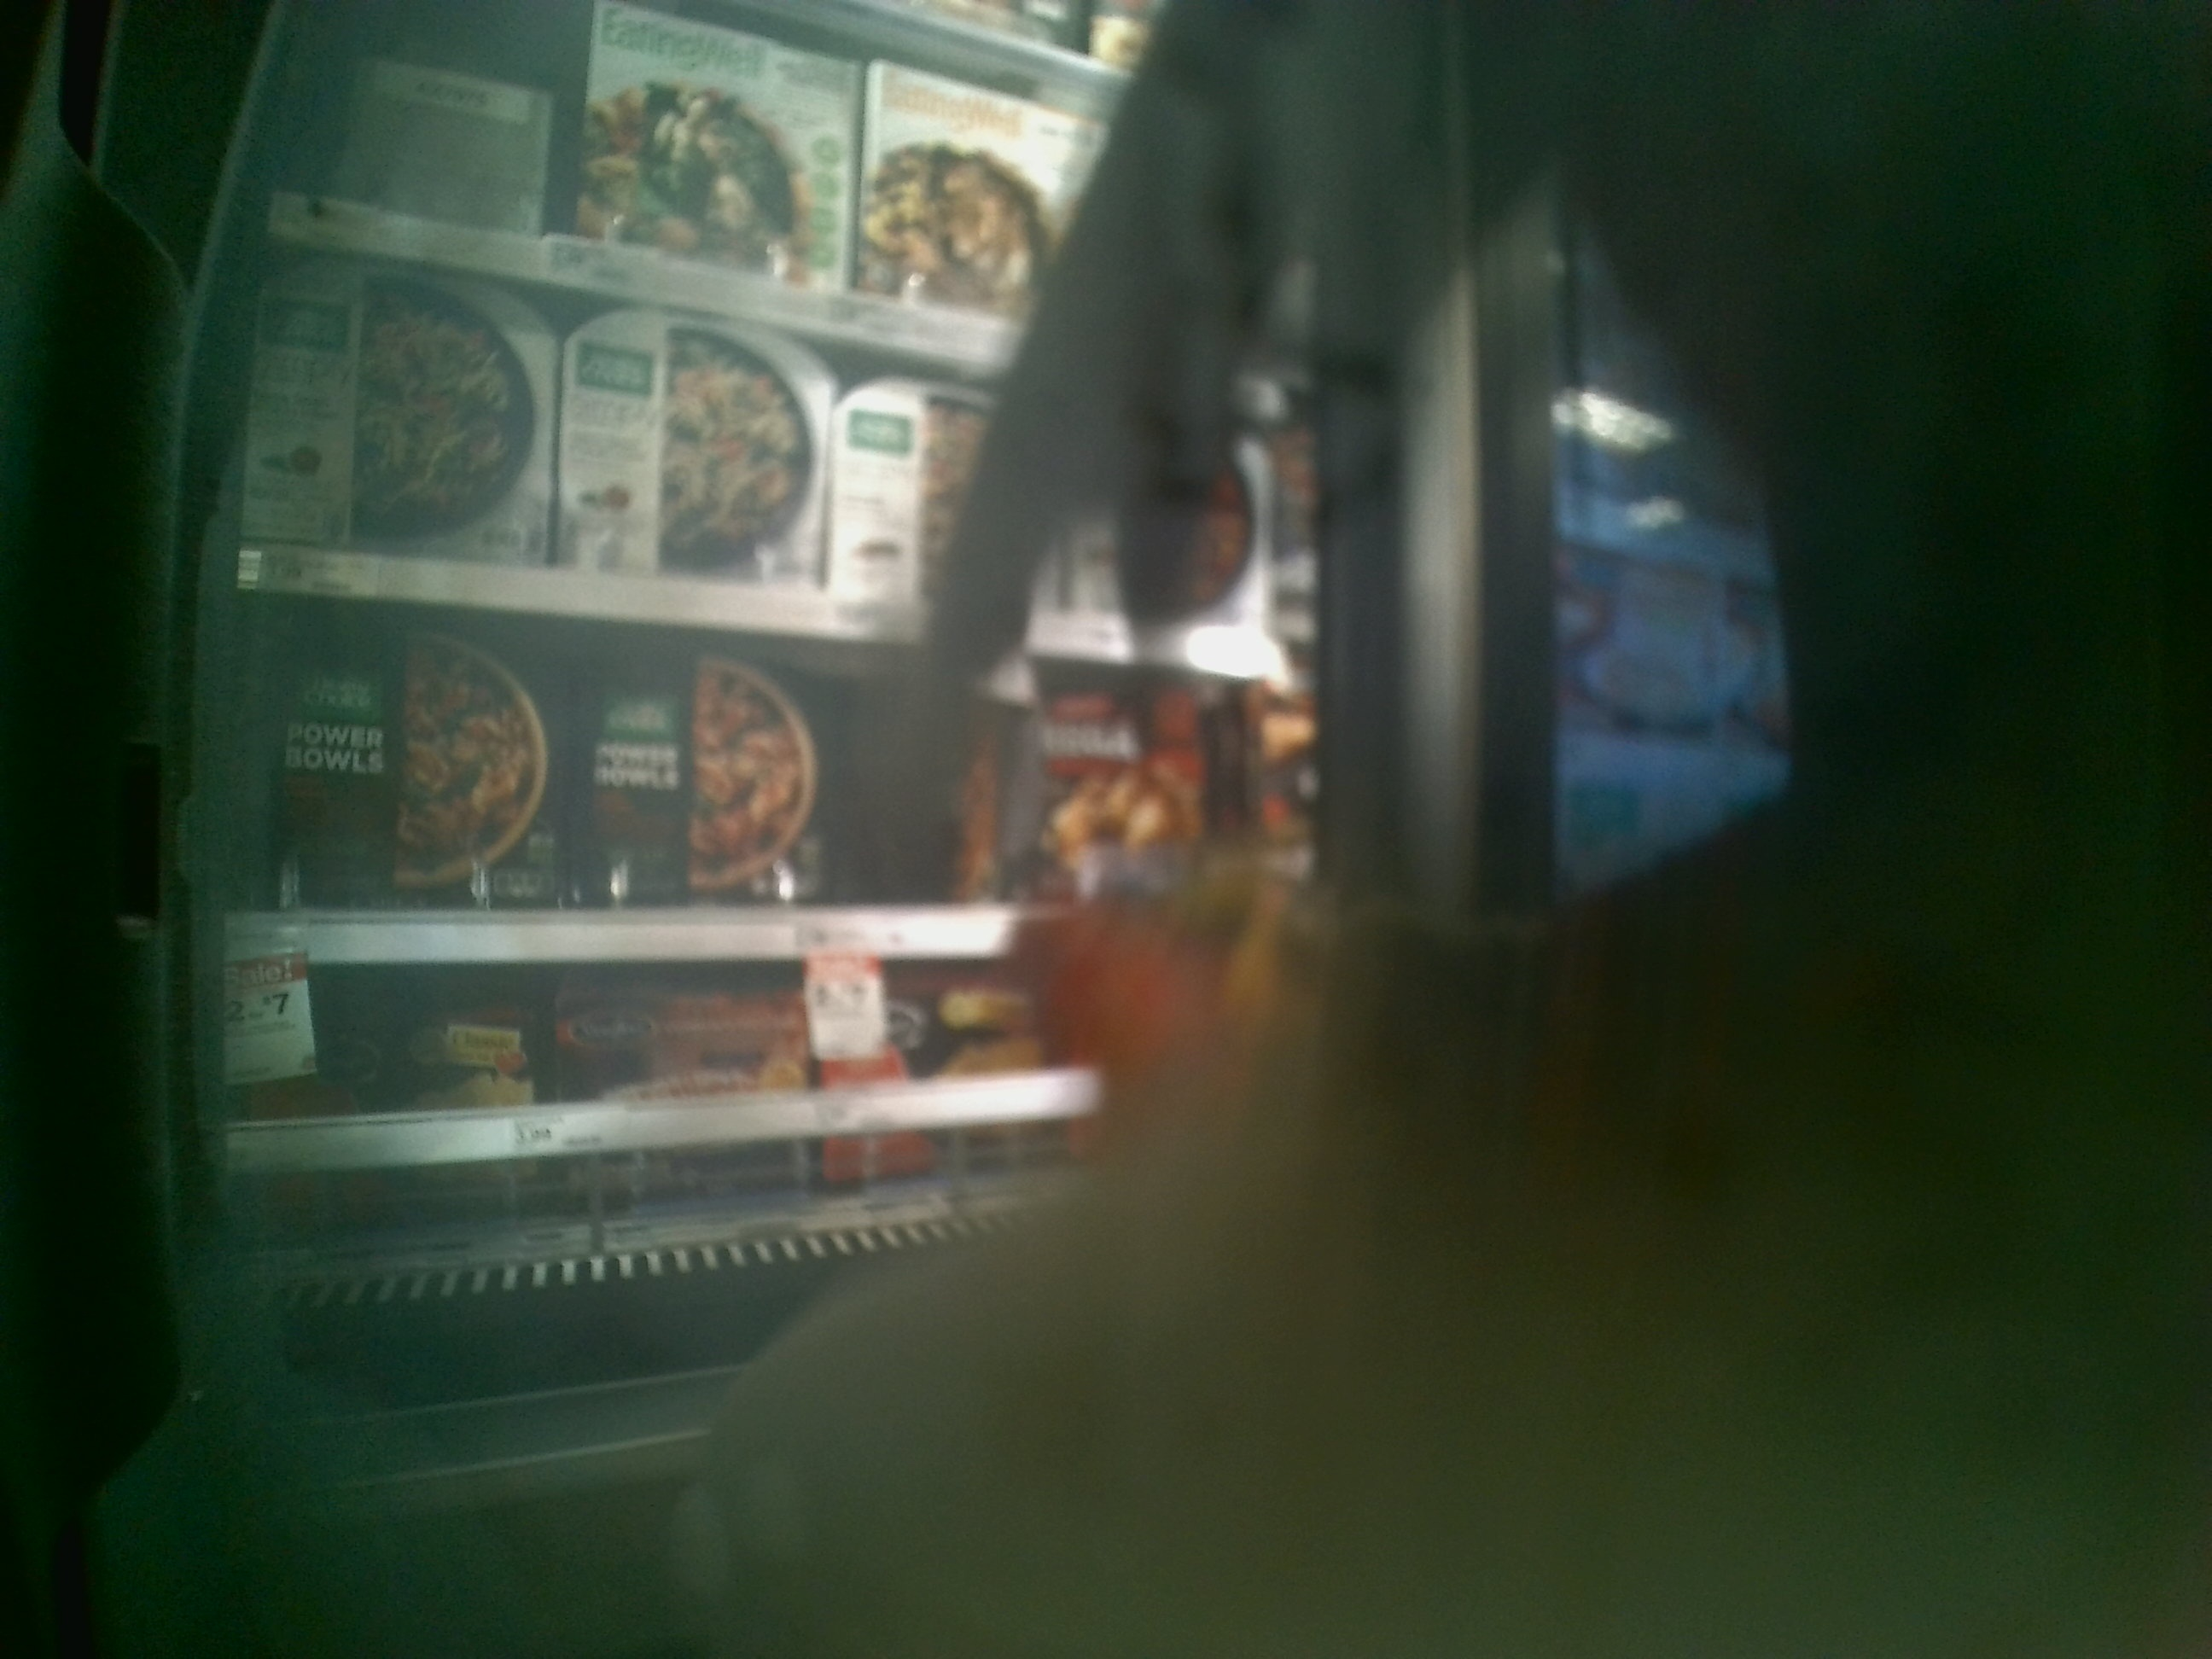pizza: (270, 260, 557, 563), (557, 314, 824, 603), (284, 624, 550, 894), (578, 0, 846, 267), (590, 647, 829, 899), (873, 78, 1109, 321), (1008, 701, 1224, 897)
